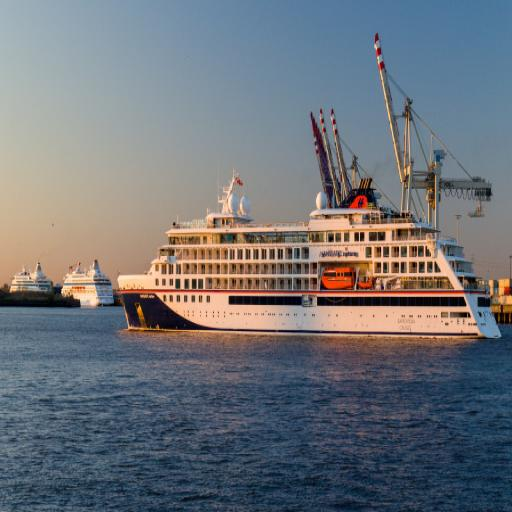cruises: (115, 166, 507, 351), (62, 255, 113, 309), (14, 257, 54, 297)
